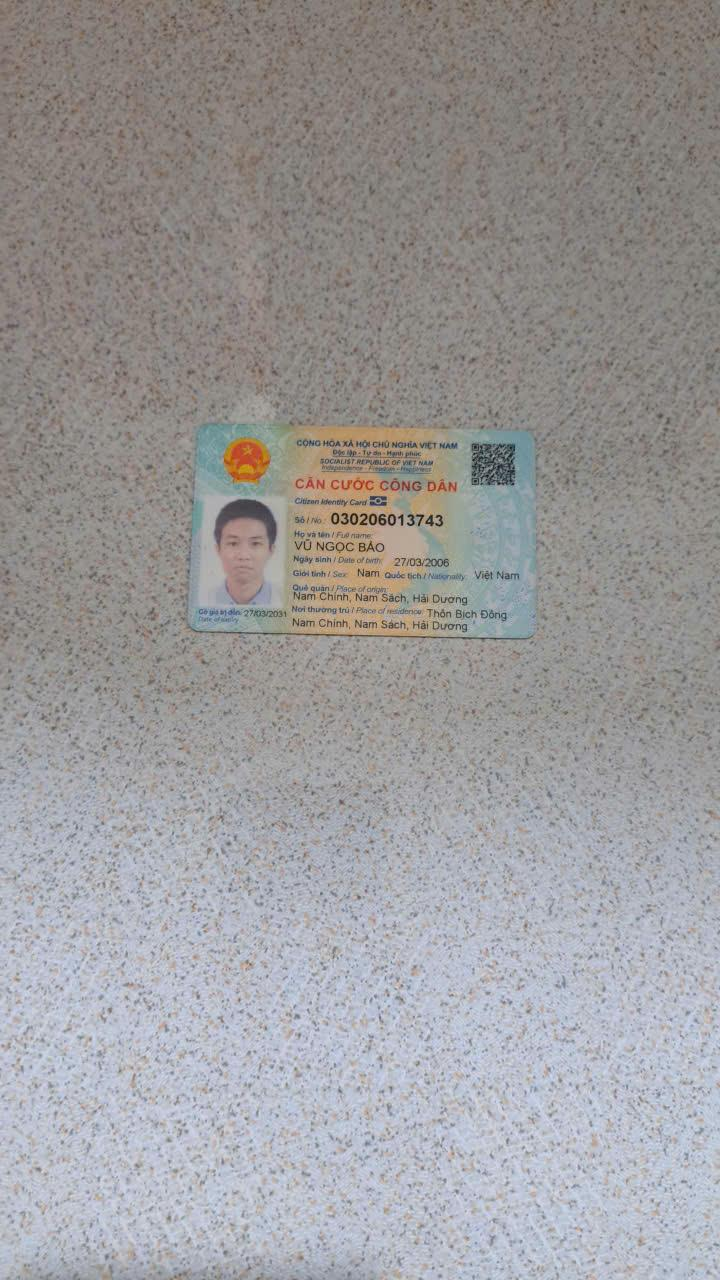cccd: (184, 413, 550, 645)
